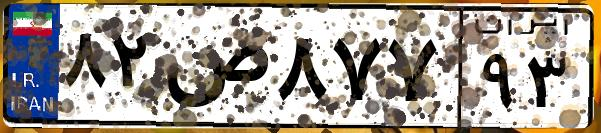2: (110, 28, 158, 98)
3: (525, 38, 570, 115)
7: (385, 28, 445, 110), (330, 28, 385, 110)
8: (270, 28, 330, 110), (57, 26, 110, 100)
9: (475, 38, 525, 113)
ص: (158, 20, 270, 120)
